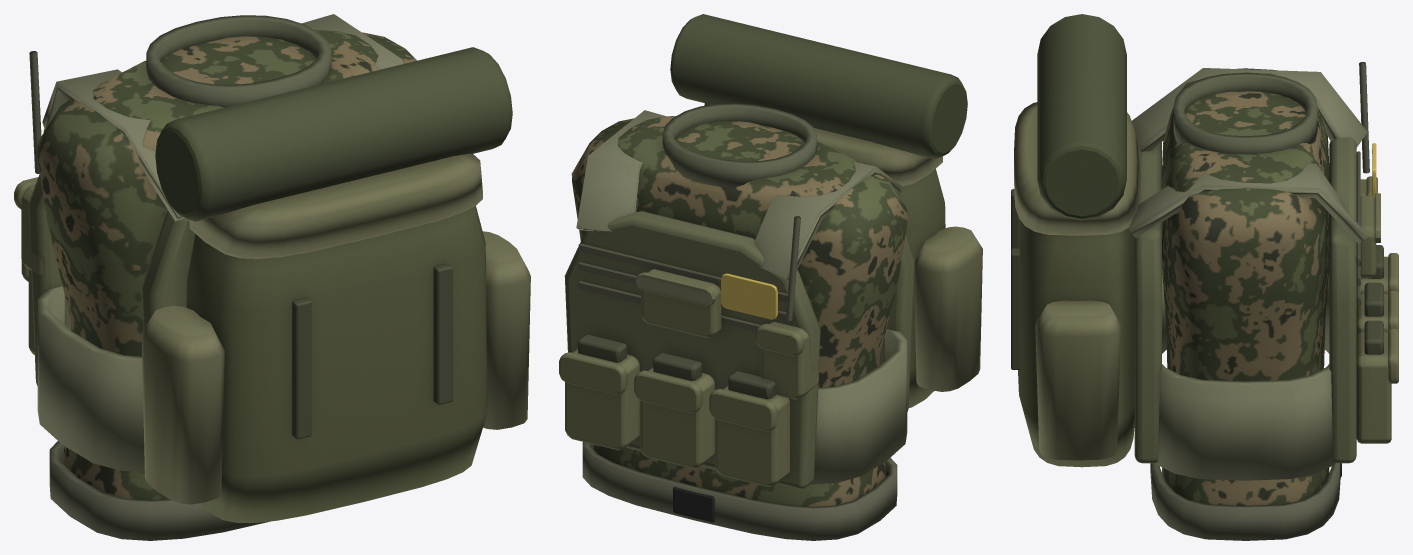
Rendered from Alpha_Torso.glb.
The picture shows the model from 3 angles, left to right: view 1: azimuth 30°, elevation 25°; view 2: azimuth 150°, elevation 25°; view 3: azimuth 270°, elevation 25°; orthographic projection. The views are drawn at different scales.
Visible parts, largest first — view 1: Alpha_Torso_body, Alpha_Torso_v_bedroll; view 2: Alpha_Torso_body, Alpha_Torso_v_bedroll; view 3: Alpha_Torso_body, Alpha_Torso_v_bedroll.
Boxes of the visible parts, bbox=[...] form: Alpha_Torso_body: bbox=[14, 14, 530, 540]; Alpha_Torso_v_bedroll: bbox=[155, 47, 512, 221]; Alpha_Torso_body: bbox=[559, 103, 982, 540]; Alpha_Torso_v_bedroll: bbox=[670, 14, 967, 159]; Alpha_Torso_body: bbox=[1011, 62, 1398, 540]; Alpha_Torso_v_bedroll: bbox=[1037, 14, 1126, 220].
Size of the model in its own units: 1.86 by 2.25 by 1.99.
Materials: 1 (1 with a texture image).
